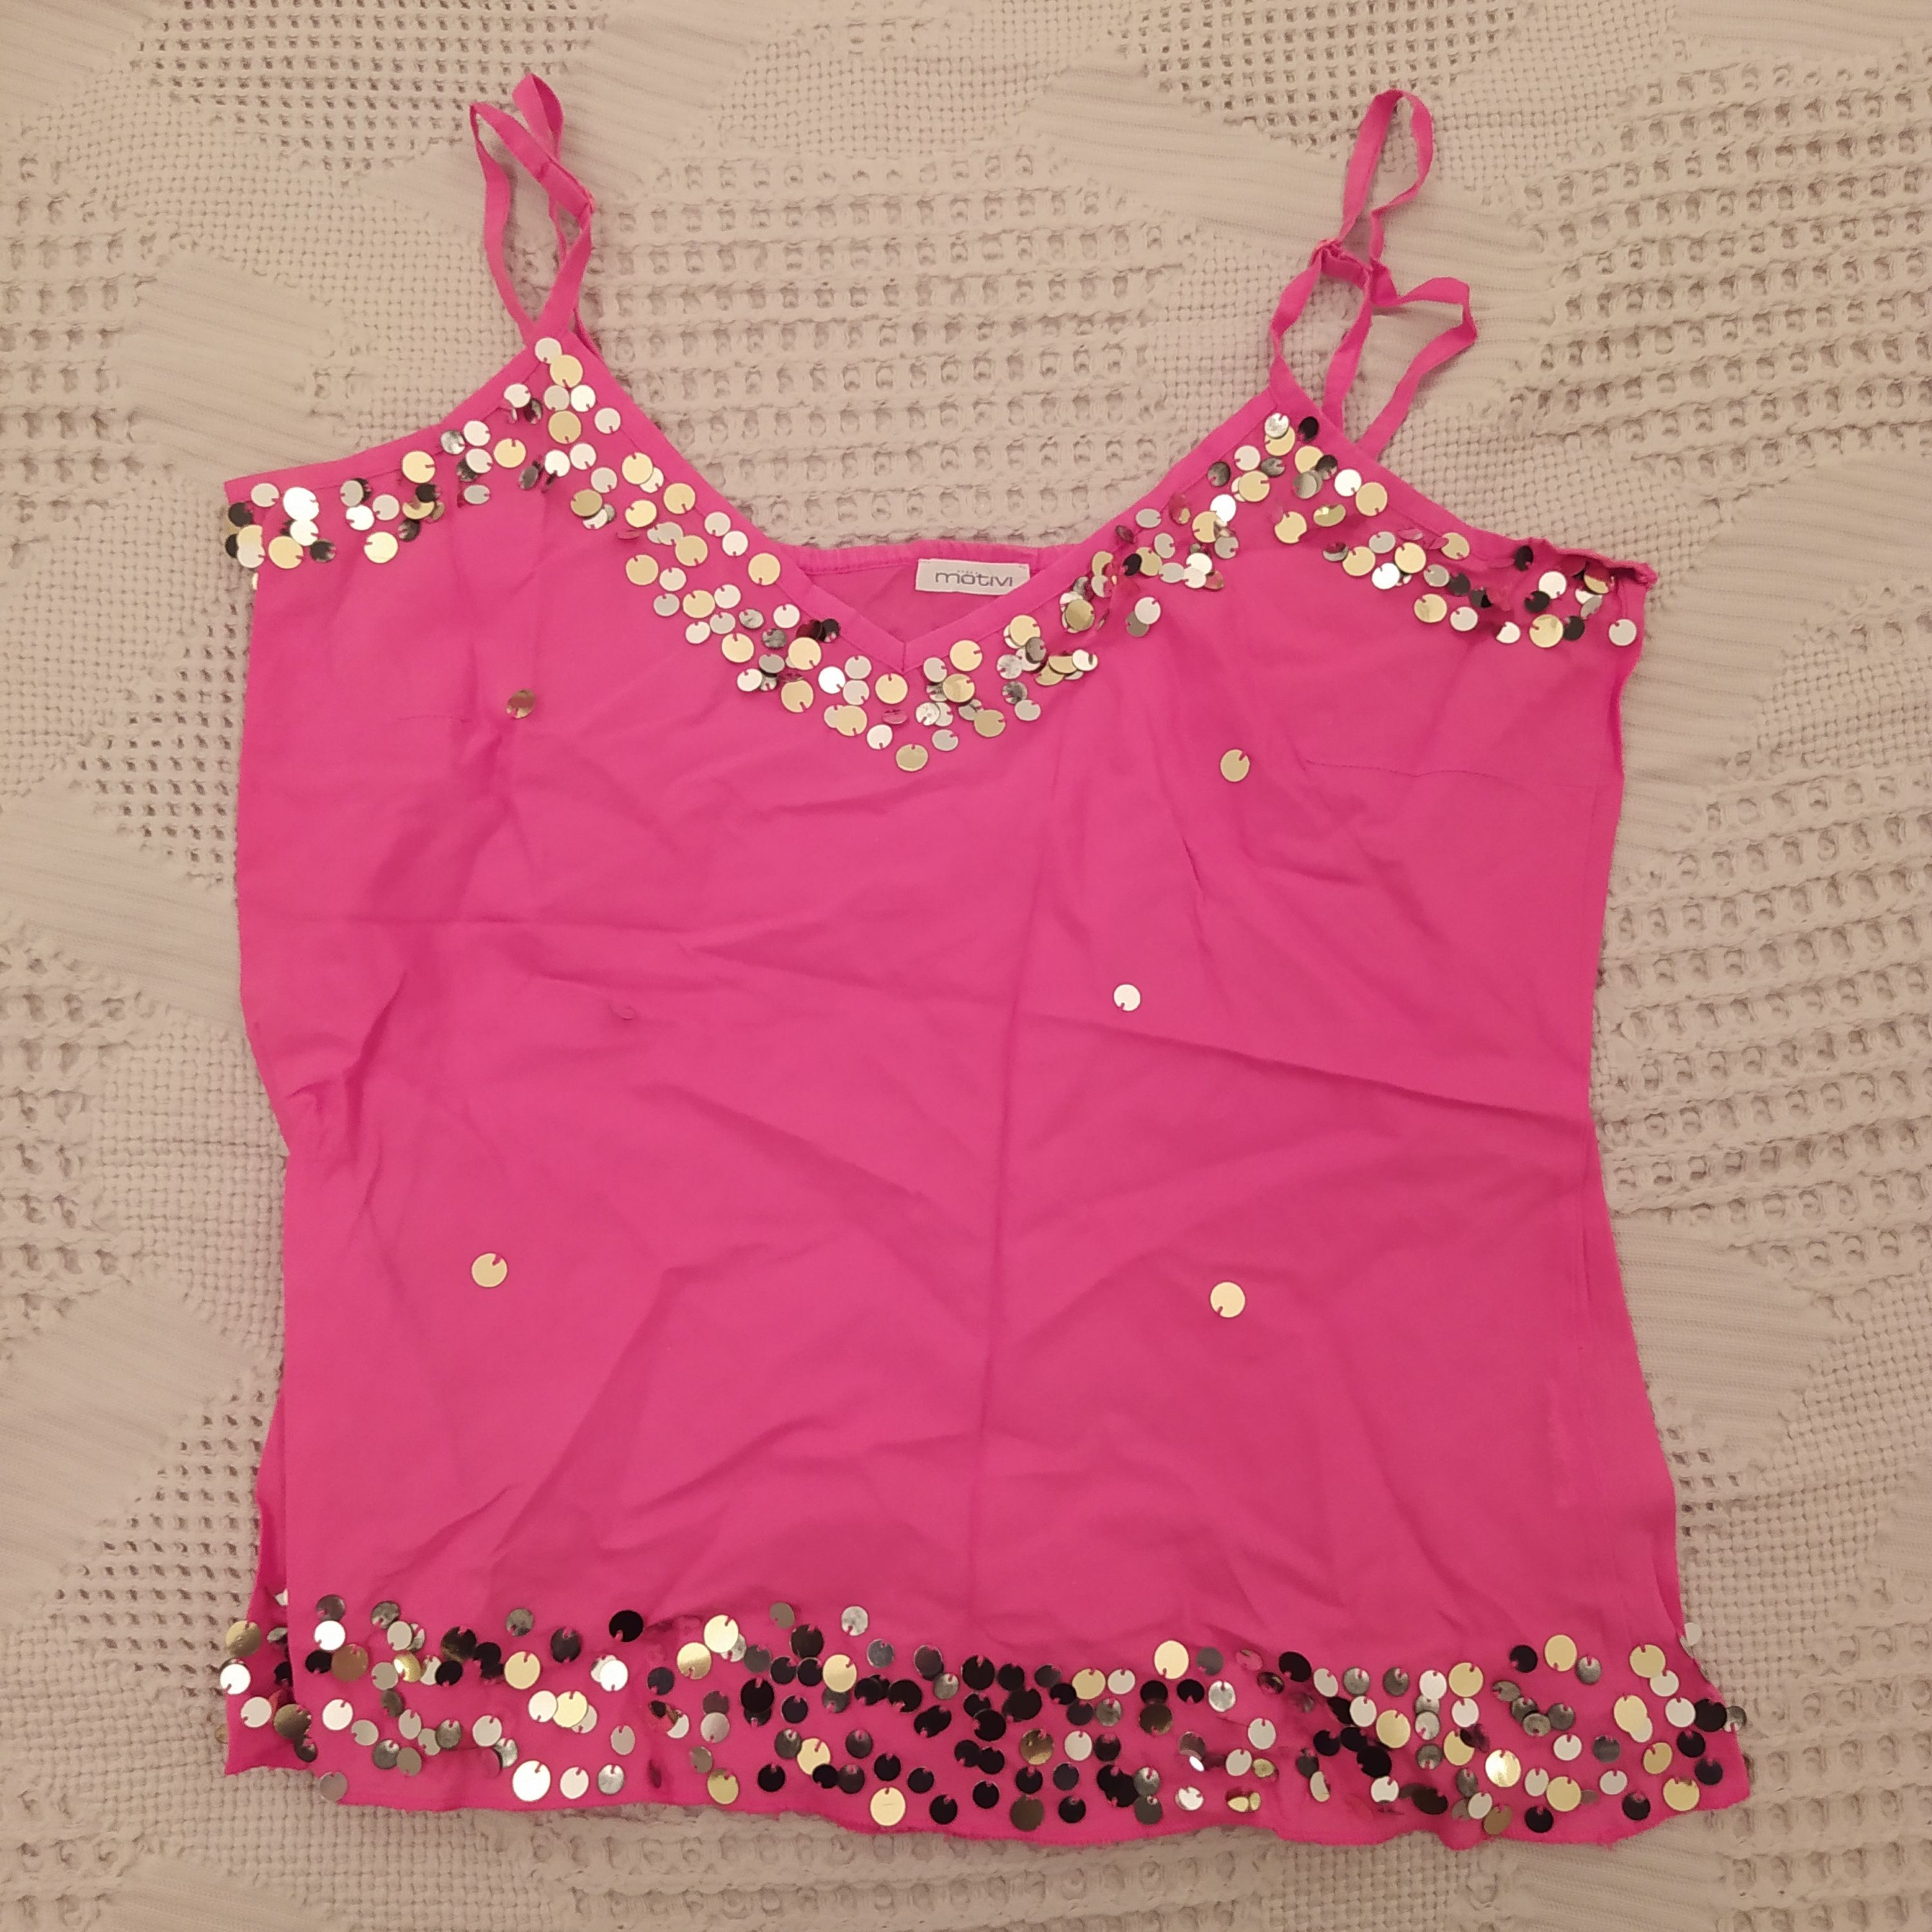clothes: (136, 55, 1755, 1872)
